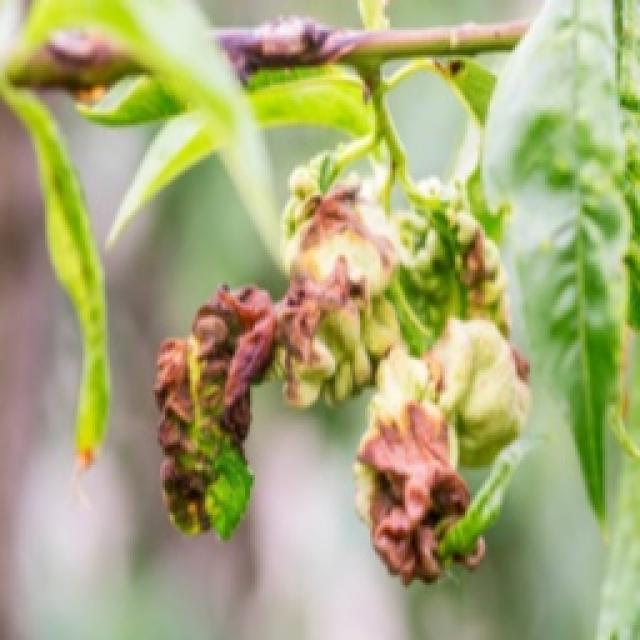peach_leaf_curl: (150, 150, 532, 585)
